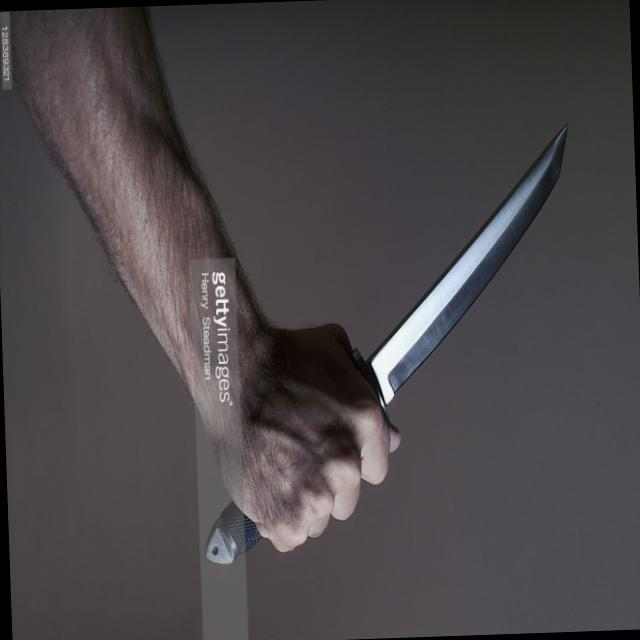knife: (269, 109, 586, 565)
